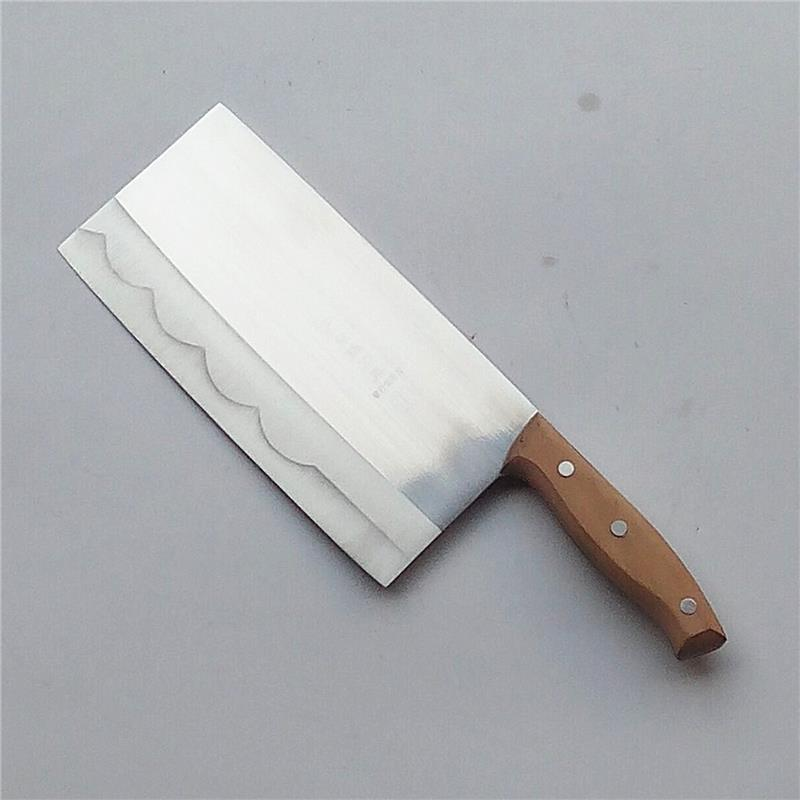knief: (52, 82, 745, 645)
